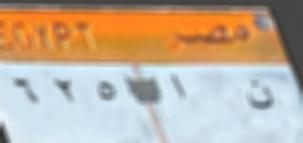2: (51, 73, 78, 111)
5: (90, 76, 124, 114)
6: (10, 76, 43, 106)
alif: (164, 70, 191, 103)
noon: (240, 73, 277, 116)
